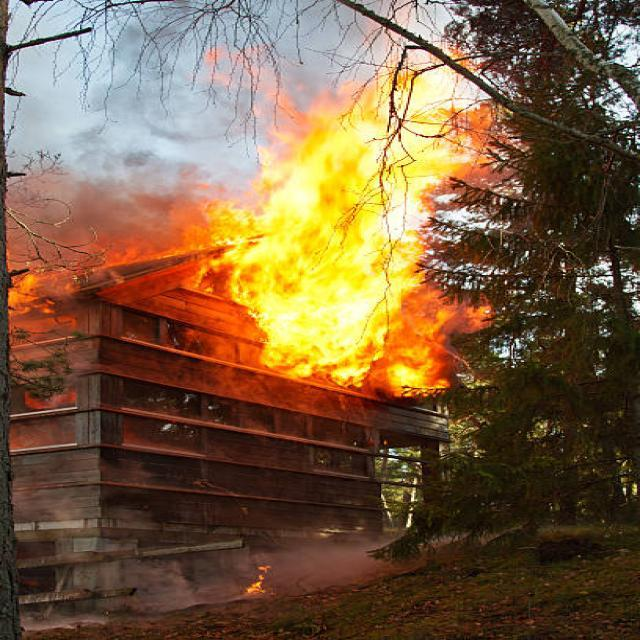Fire: (222, 88, 496, 371)
Smoke: (29, 146, 195, 250)
